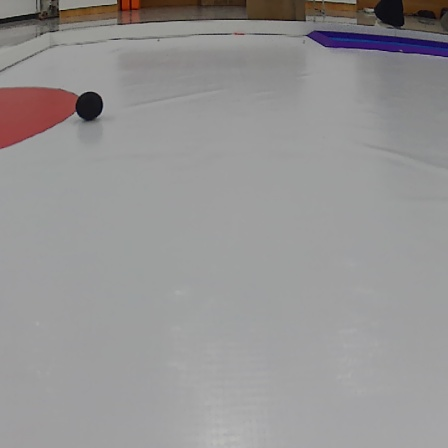black: (75, 87, 104, 122)
blue_aim: (305, 27, 448, 58)
red_base: (1, 79, 82, 148)
